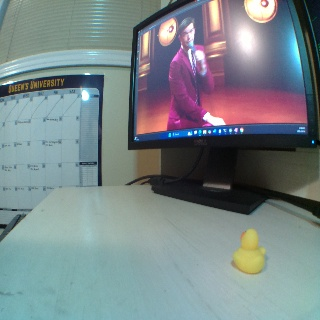duck_regular: (231, 226, 266, 274)
